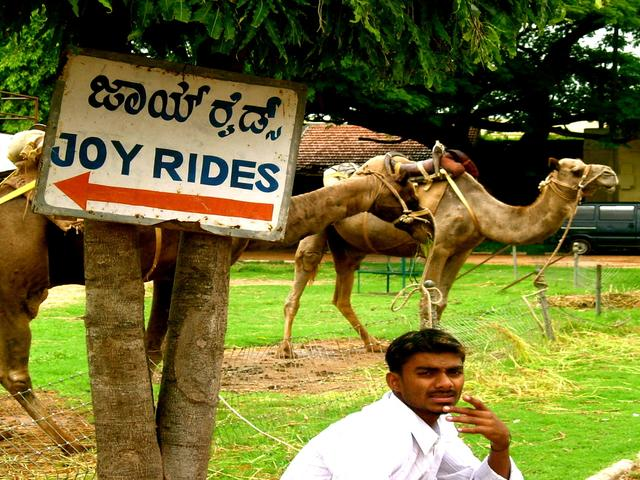camel: (304, 92, 621, 339)
